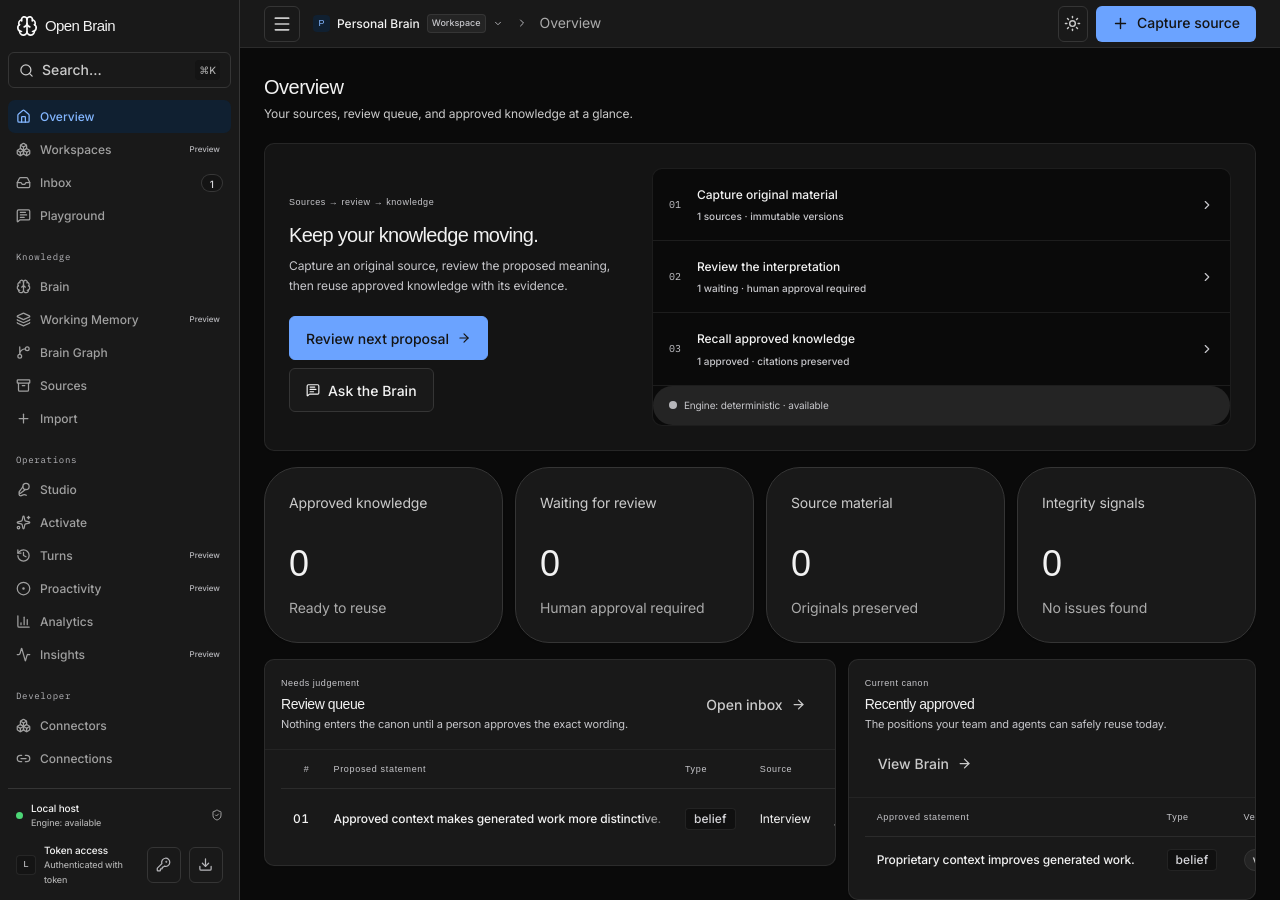
Scenario: App › asks a grounded question and renders evidence
Expected: the heading "Recently approved" is shown, [865,696,974,712]
Click the button "Ask the Brain".
click(361, 390)  # box [289,368,434,412]
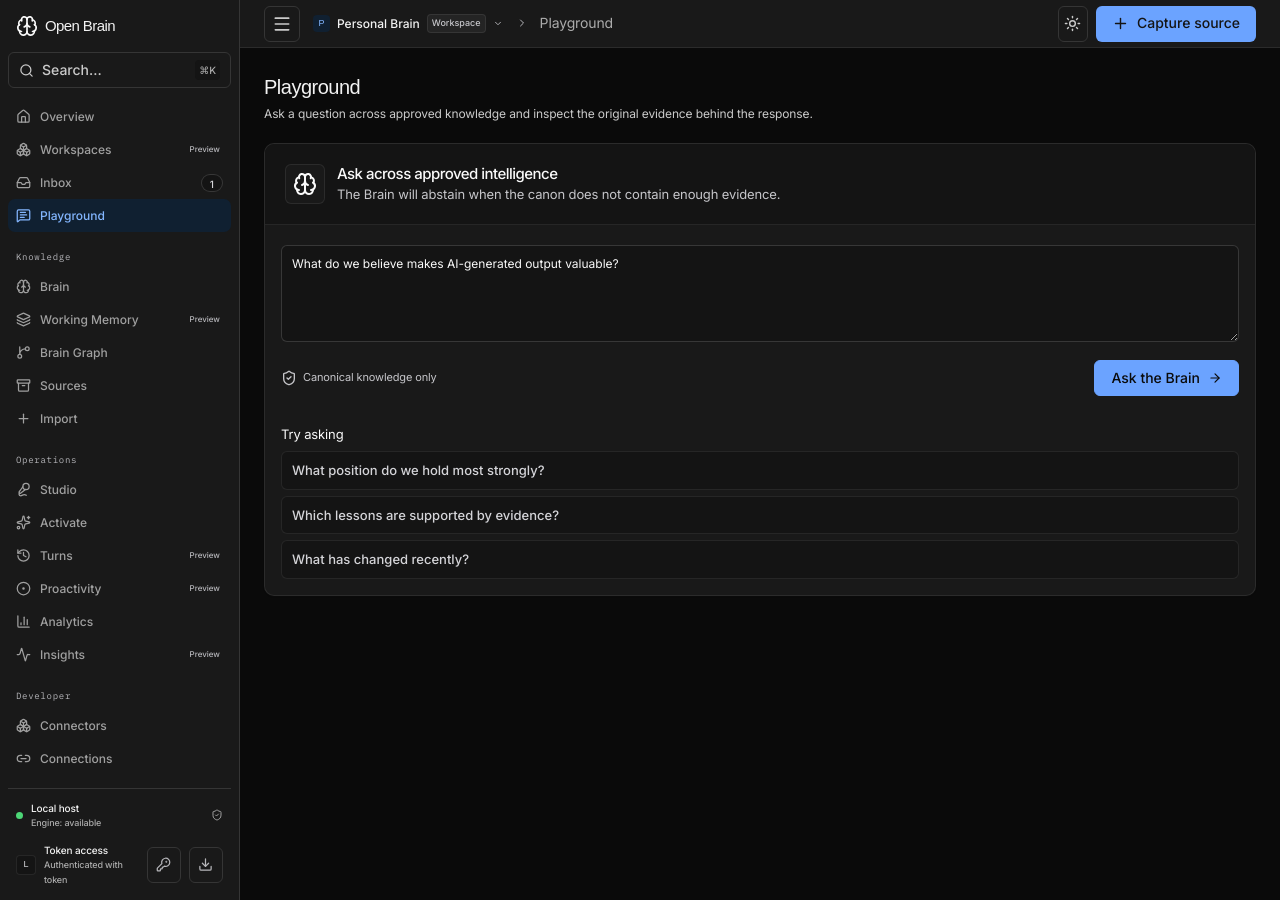
Click the button "Ask the Brain".
click(1167, 378)  # box [1094,360,1239,396]
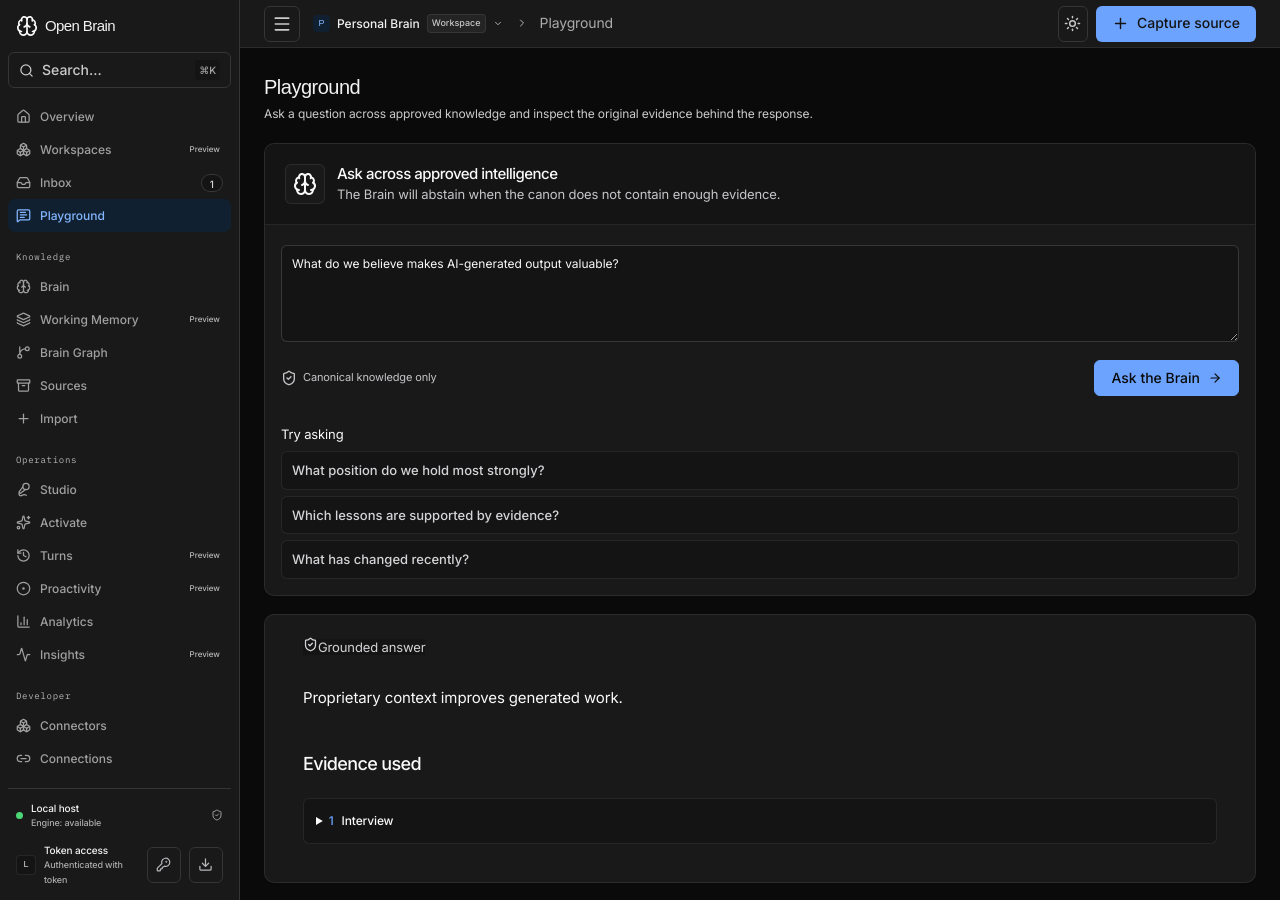
Result: the text "Grounded answer" is shown at [303,639,426,655]
Result: the heading "1Interview" is shown at [329,813,394,828]
